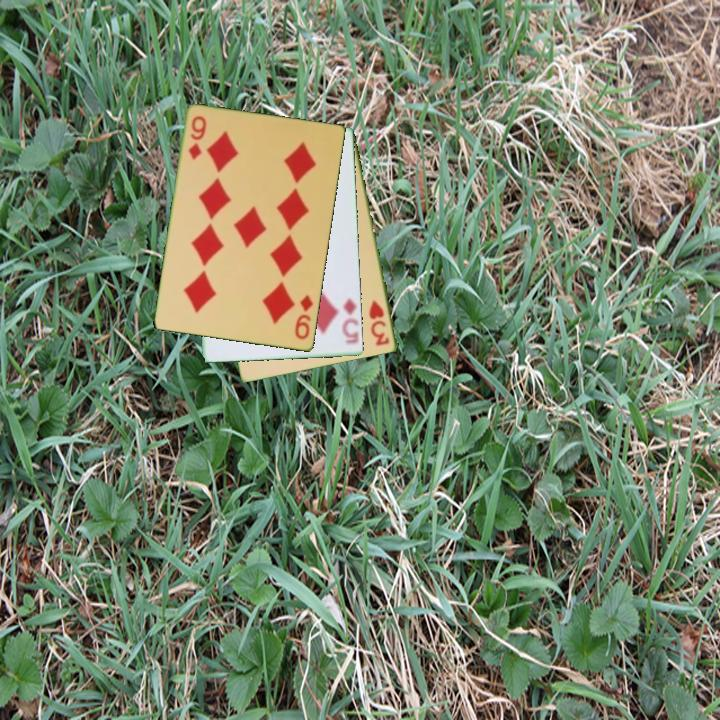3h: (366, 297, 392, 349)
5d: (339, 295, 362, 346)
9d: (291, 292, 316, 343), (185, 113, 209, 163)
